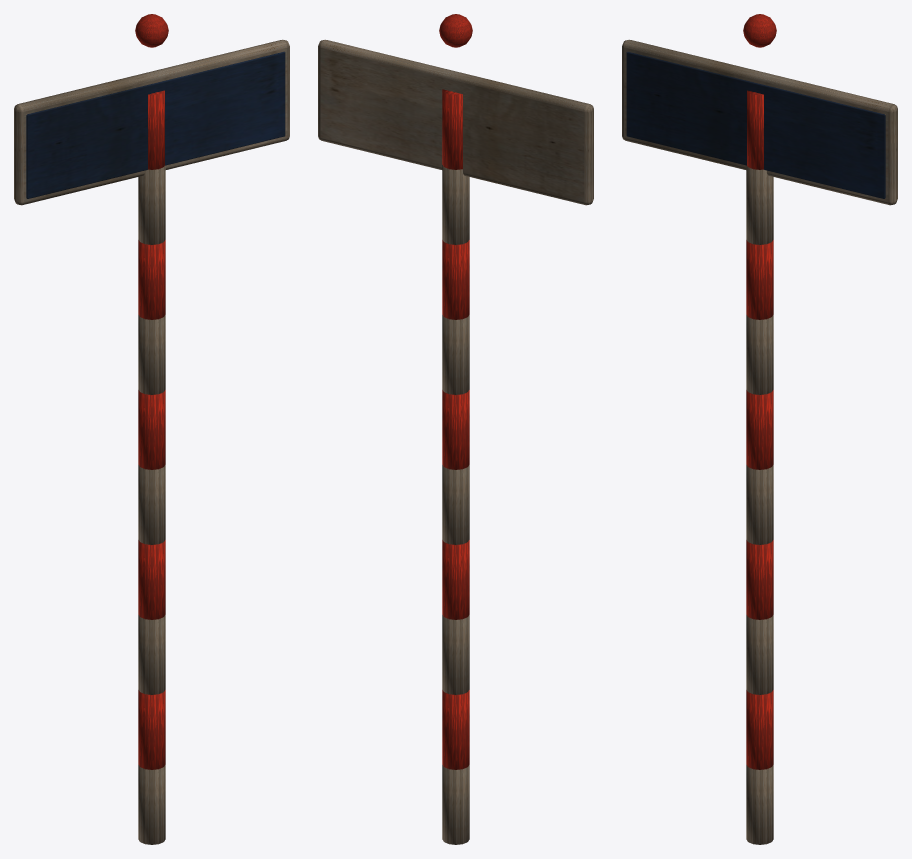
The model's file is cot_bien_ten_pho.glb.
3 renders of one model, left to right at view 1: azimuth 30°, elevation 25°; view 2: azimuth 150°, elevation 25°; view 3: azimuth 330°, elevation 25°, orthographic.
Parts seen in each view (by area): view 1: cot_bien_ten_pho.001; view 2: cot_bien_ten_pho.001; view 3: cot_bien_ten_pho.001.
Part boxes in pixels (bbox=[...]): cot_bien_ten_pho.001: bbox=[14, 14, 289, 844]; cot_bien_ten_pho.001: bbox=[318, 14, 593, 844]; cot_bien_ten_pho.001: bbox=[622, 14, 897, 844].
Size of the model in its own units: 1.03 by 2.97 by 0.11.
2 materials, 2 textured.
